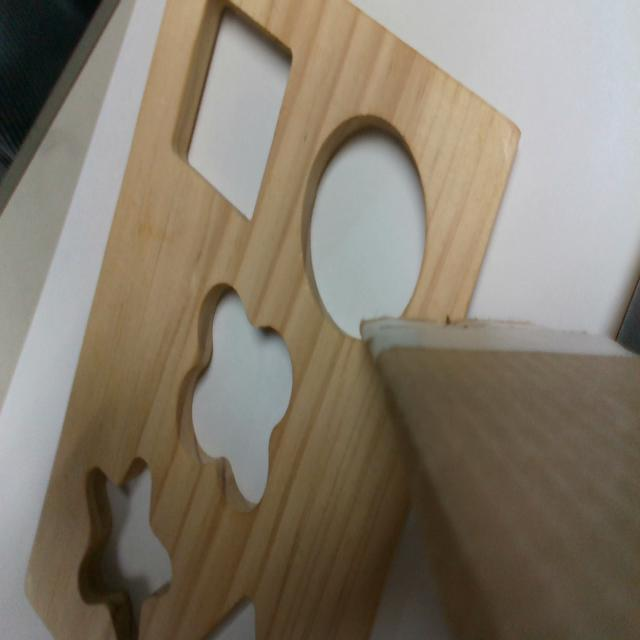circle: (300, 114, 427, 340)
flower: (174, 285, 291, 509)
square: (171, 1, 295, 223)
star: (78, 455, 173, 637)
triangle: (201, 594, 256, 634)
